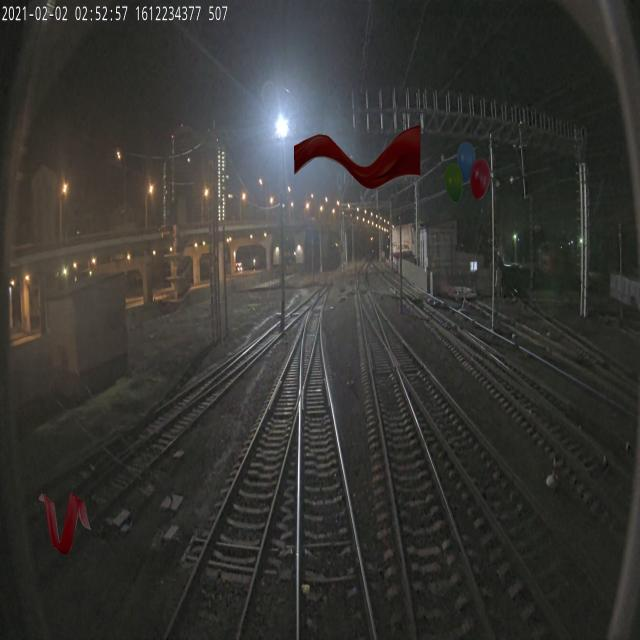balloon: (444, 140, 490, 204)
floating object: (294, 125, 420, 189), (38, 492, 92, 556)
